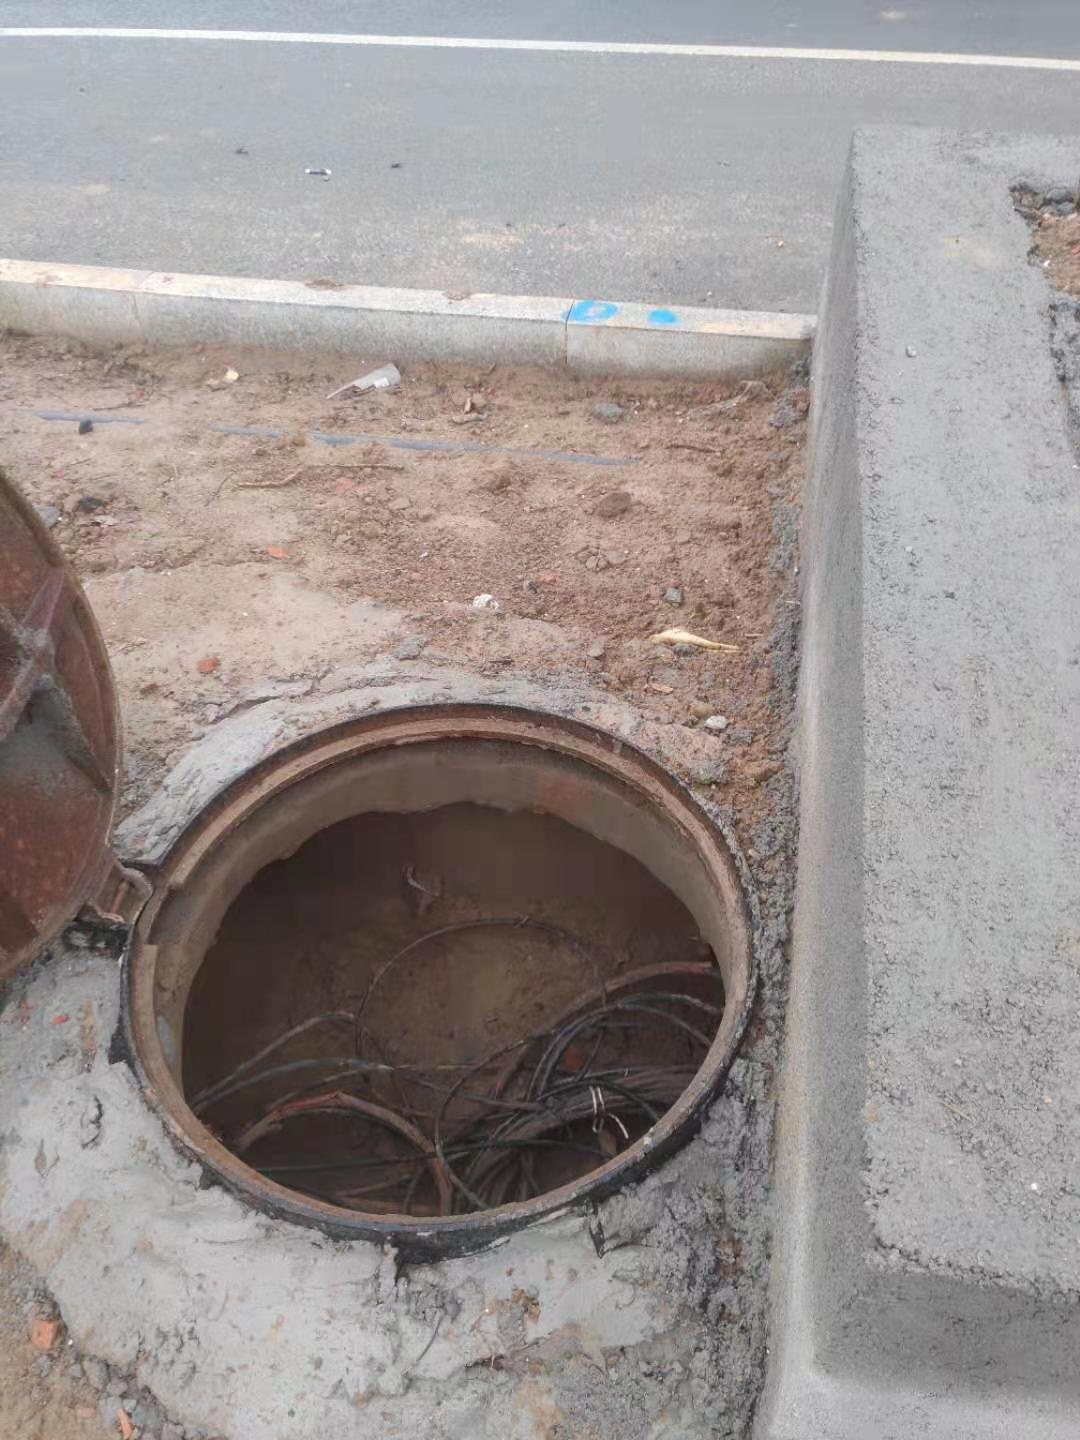uncovered: (1, 474, 759, 1236)
